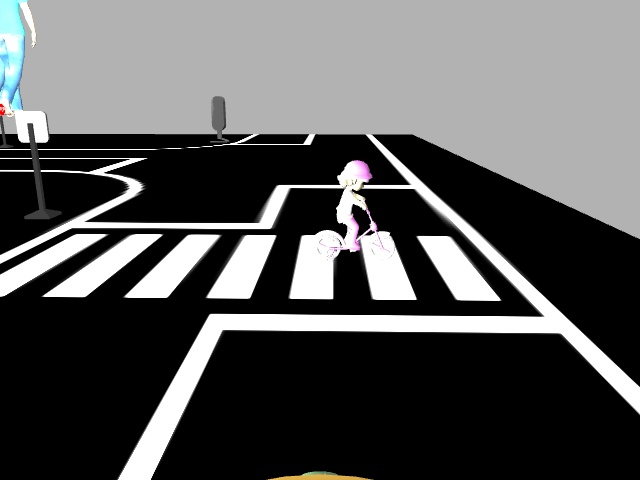Pedestrian: (311, 151, 400, 265)
